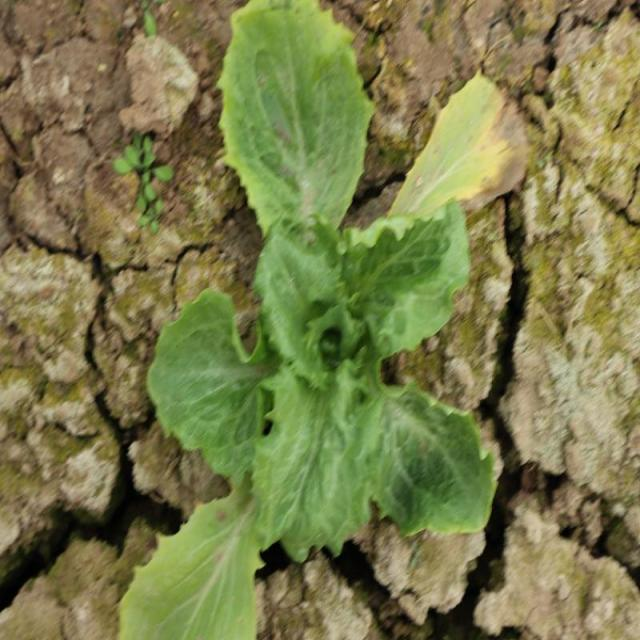crop: (121, 0, 499, 640)
